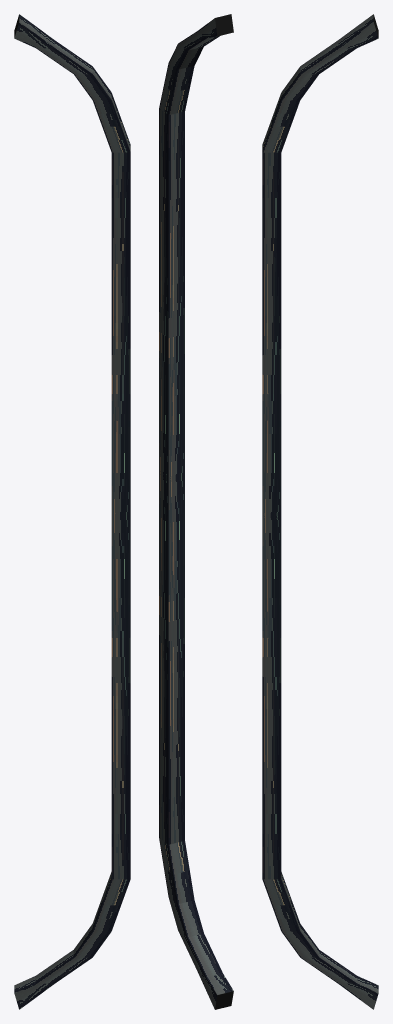
The model's file is poleCurvedEnds.gltf.
3 views of the same model, side by side, from view 1: azimuth 90°, elevation 25°; view 2: azimuth 210°, elevation 25°; view 3: azimuth 270°, elevation 25° (orthographic).
Visible parts, largest first — view 1: poleCurvedEnds; view 2: poleCurvedEnds; view 3: poleCurvedEnds.
Boxes of the visible parts, bbox=[...] form: poleCurvedEnds: bbox=[14, 14, 130, 1009]; poleCurvedEnds: bbox=[159, 14, 233, 1009]; poleCurvedEnds: bbox=[262, 14, 378, 1009].
Bounding box in the file's own units: 0.5 × 28.73 × 3.06.
2 materials, 2 textured.
